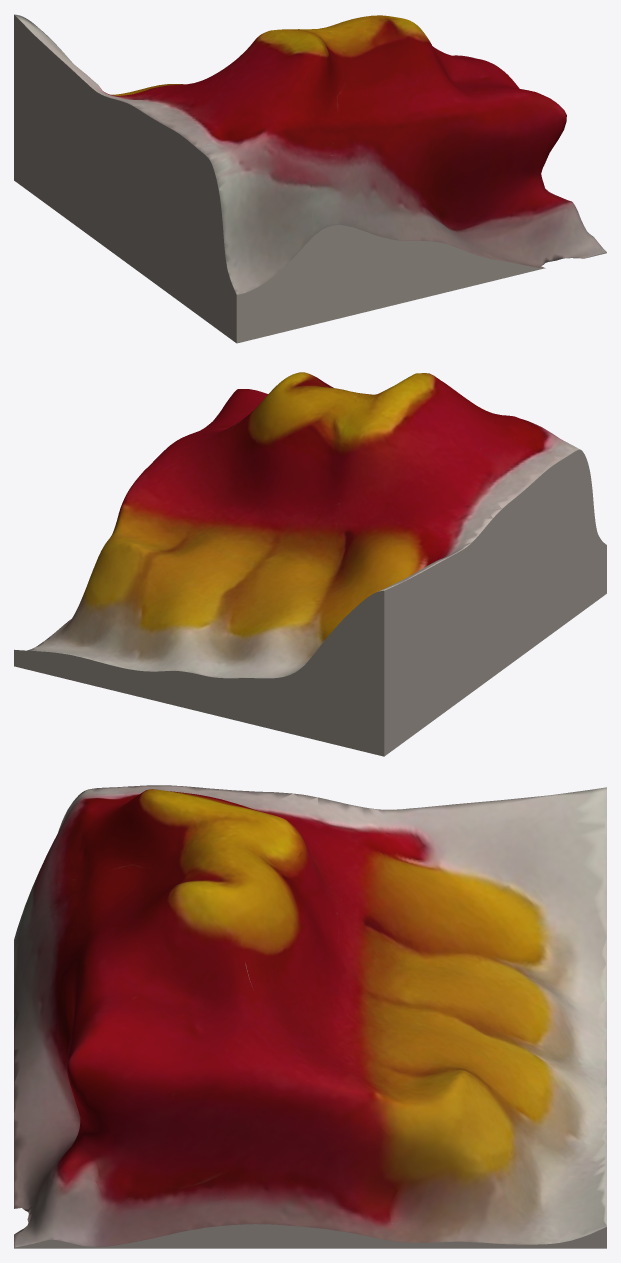
Rendered from ps-potato.glb.
3 renders of one model, top to bottom at view 1: azimuth 30°, elevation 25°; view 2: azimuth 150°, elevation 25°; view 3: azimuth 270°, elevation 25°, orthographic. The views are drawn at different scales.
Visible parts, largest first — view 1: baked_mesh; view 2: baked_mesh; view 3: baked_mesh.
Boxes of the visible parts, x1,y1,x2,y2 form: baked_mesh: (14, 14, 606, 343); baked_mesh: (14, 372, 606, 756); baked_mesh: (14, 785, 606, 1248).
Size of the model in its own units: 0.1483 by 0.0864 by 0.1546.
Materials: 1 (1 with a texture image).
